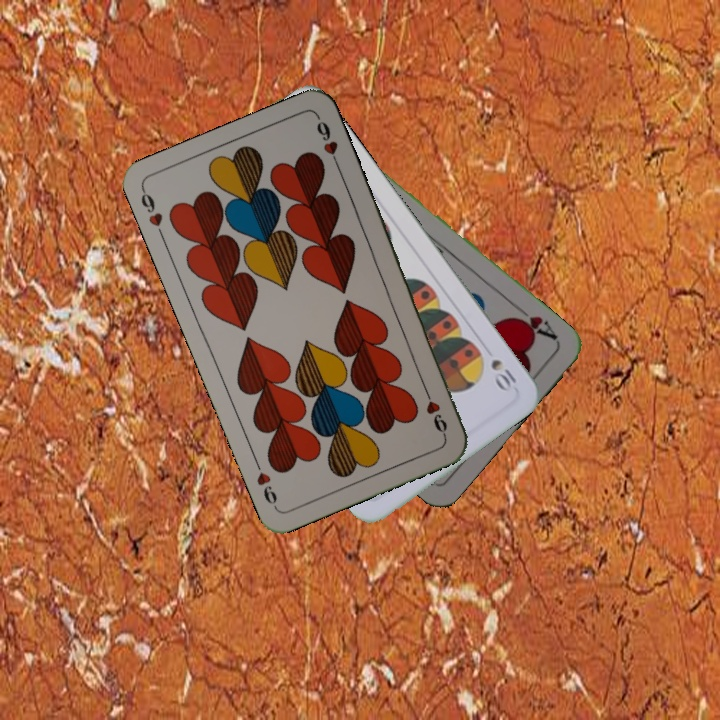H9: (419, 382, 450, 439), (137, 185, 167, 242)
HA: (508, 301, 561, 343)
S10: (486, 355, 519, 394)
